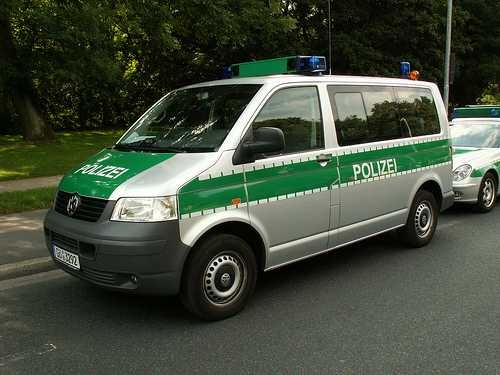Police Van: (49, 54, 456, 299), (446, 94, 500, 202)
